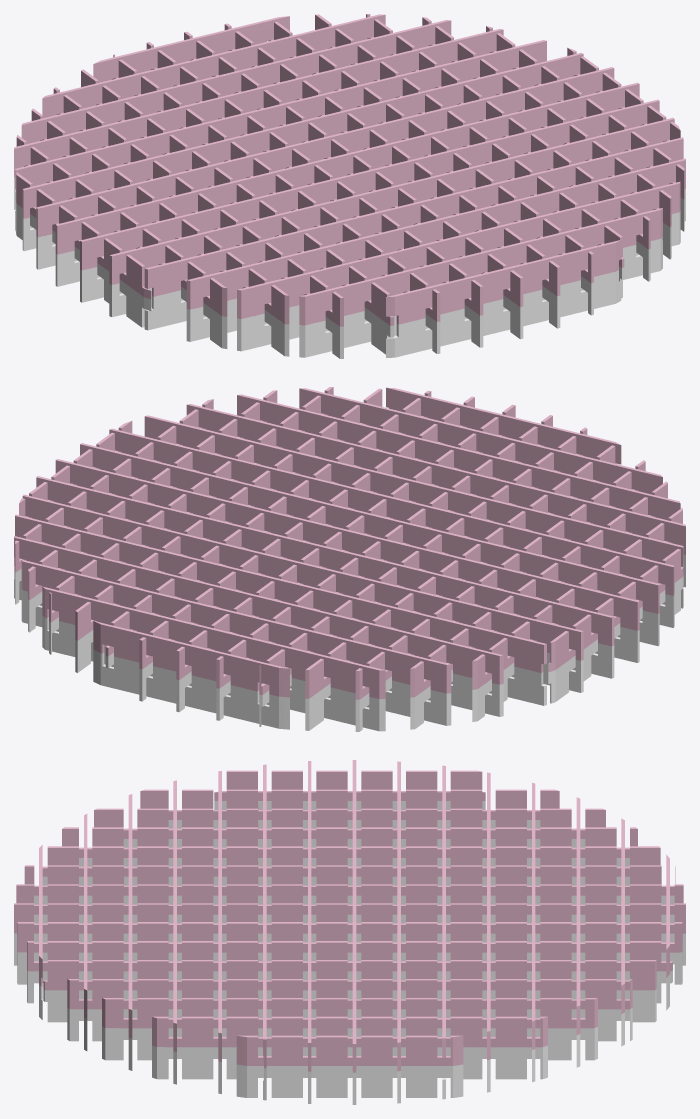
File: morf-worm.glb
3 renders of one model, top to bottom at view 1: azimuth 30°, elevation 25°; view 2: azimuth 150°, elevation 25°; view 3: azimuth 270°, elevation 25°, orthographic.
Parts seen in each view (by area): view 1: Morf+Worm.stl_fil3, Morf+Worm.stl_fil1; view 2: Morf+Worm.stl_fil3, Morf+Worm.stl_fil1; view 3: Morf+Worm.stl_fil3, Morf+Worm.stl_fil1.
Part boxes in pixels (x1,y1,x2,y2): Morf+Worm.stl_fil3: (14,14,685,326); Morf+Worm.stl_fil1: (14,177,685,358); Morf+Worm.stl_fil3: (14,387,685,699); Morf+Worm.stl_fil1: (14,554,685,731); Morf+Worm.stl_fil3: (14,760,685,1072); Morf+Worm.stl_fil1: (14,801,685,1104).
Bounding box in the file's own units: 0.135 × 0.0135 × 0.135.
